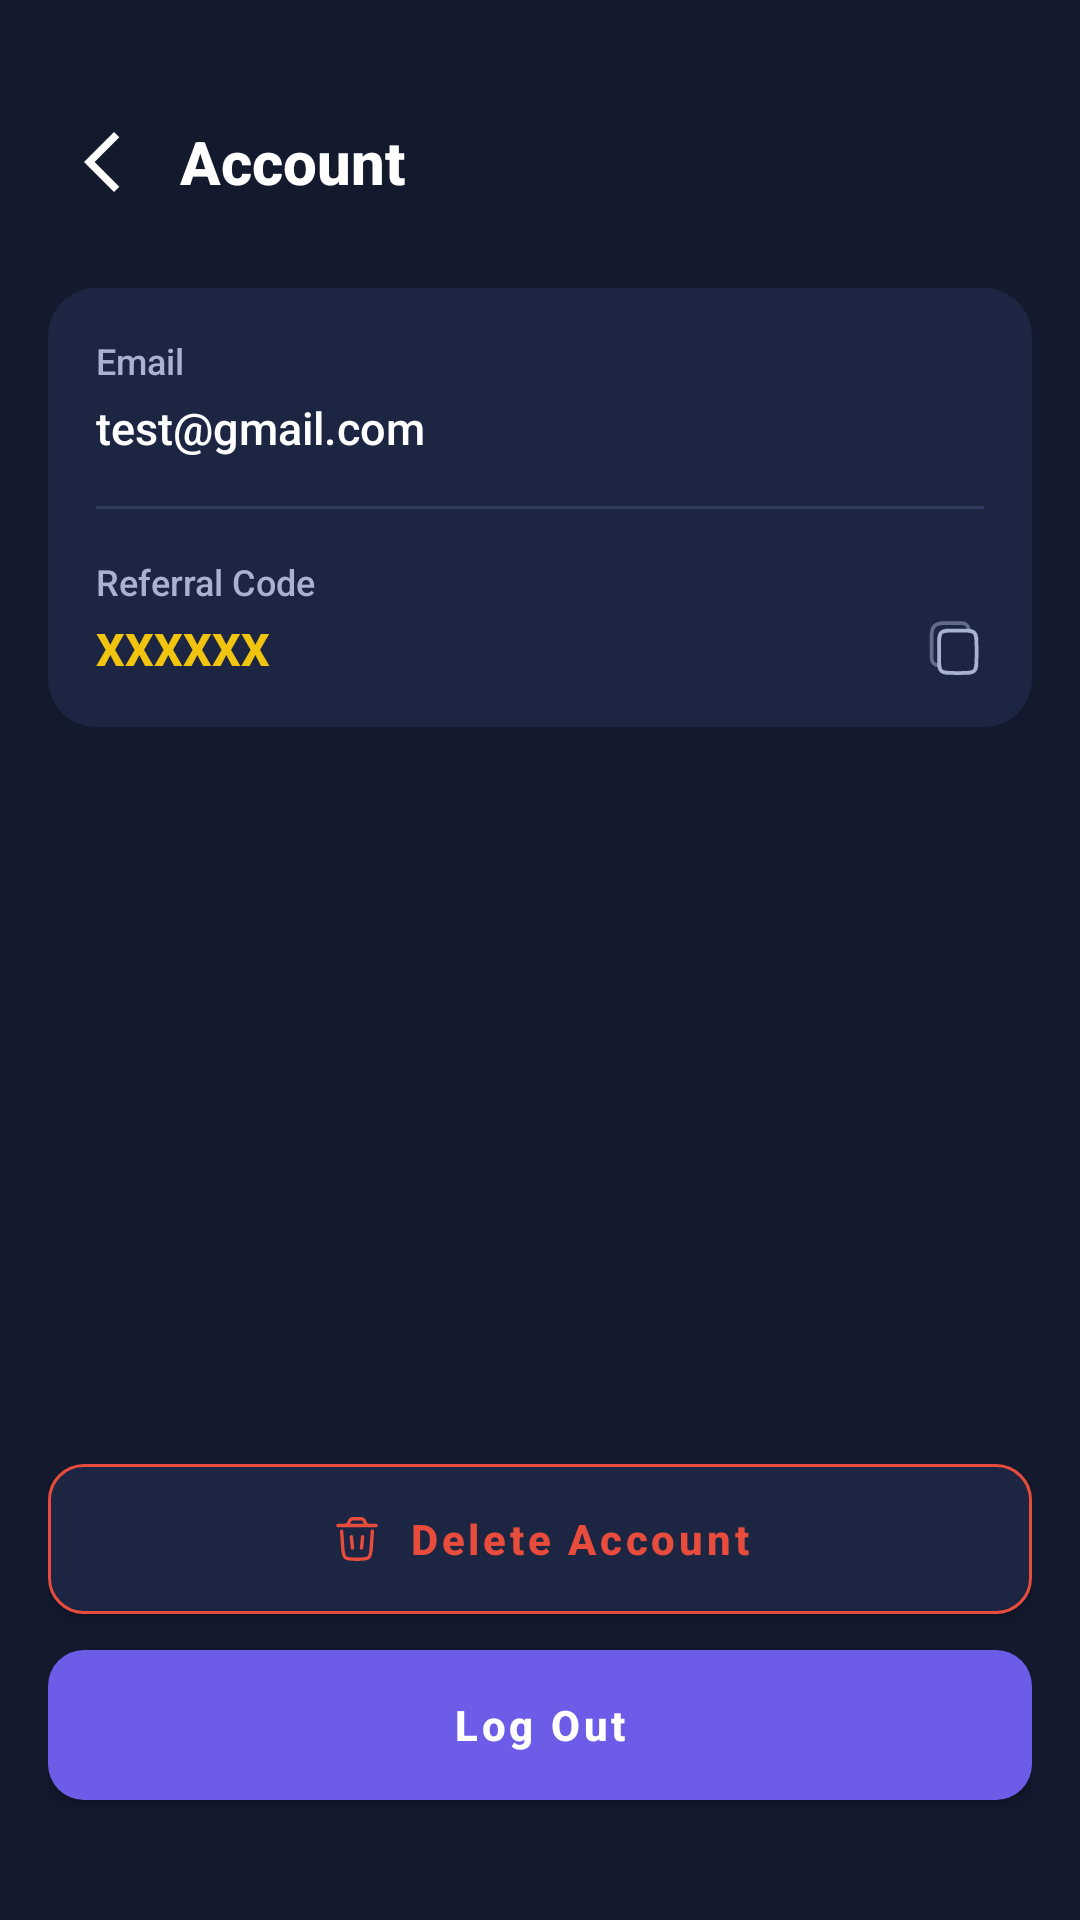

Icons on this 1080*1920 Android screen, each with its box as BBox(x1, y1, x2, y2):
Back: BBox(84, 132, 119, 192)
Copy: BBox(929, 621, 979, 675)
